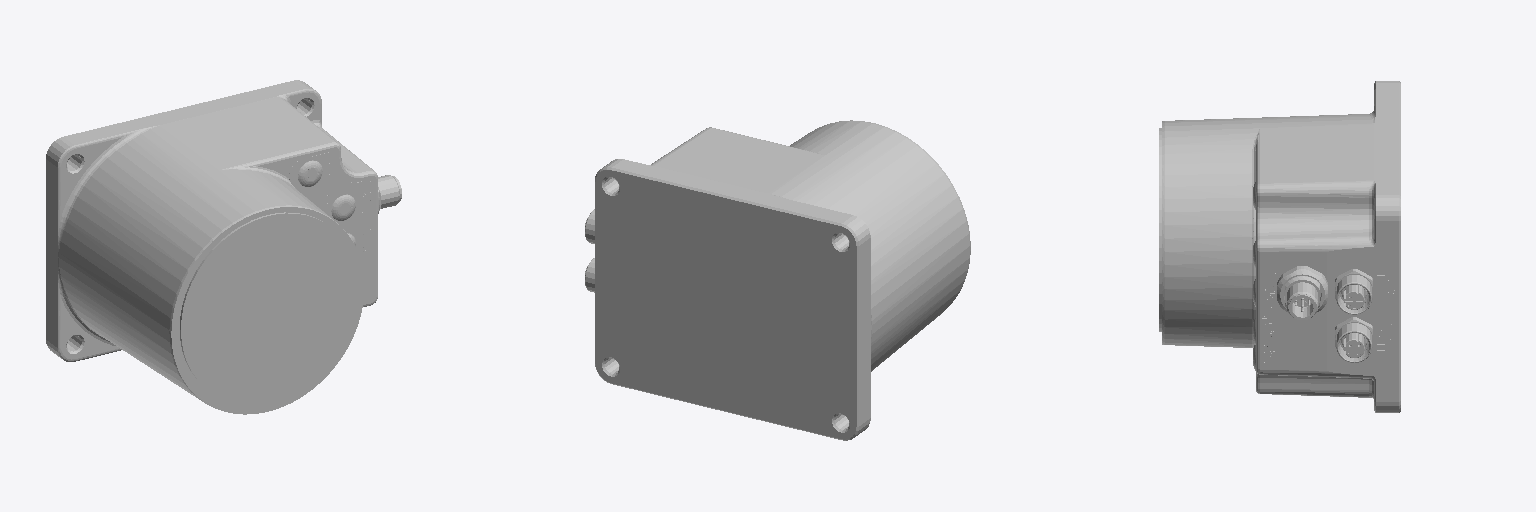
The picture shows the model from 3 angles: view 1: azimuth 30°, elevation 25°; view 2: azimuth 150°, elevation 25°; view 3: azimuth 270°, elevation 25°; orthographic projection.
Parts seen in each view (by area): view 1: base; view 2: base; view 3: base.
Boxes of the visible parts, <box> form: base: <box>46,80,401,414</box>; base: <box>585,120,970,440</box>; base: <box>1159,81,1400,412</box>.
Bounding box in the file's own units: 13.1 × 9 × 9.1.